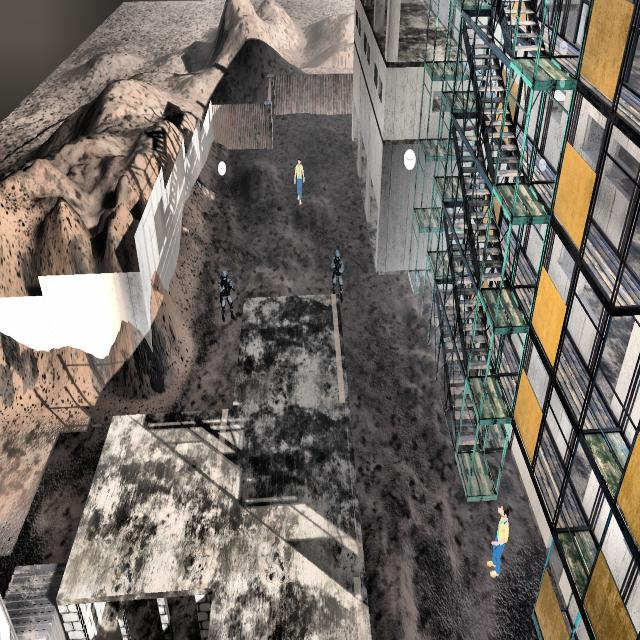bad: (214, 263, 239, 331), (324, 243, 349, 308)
good: (476, 489, 513, 588), (288, 148, 310, 214)
